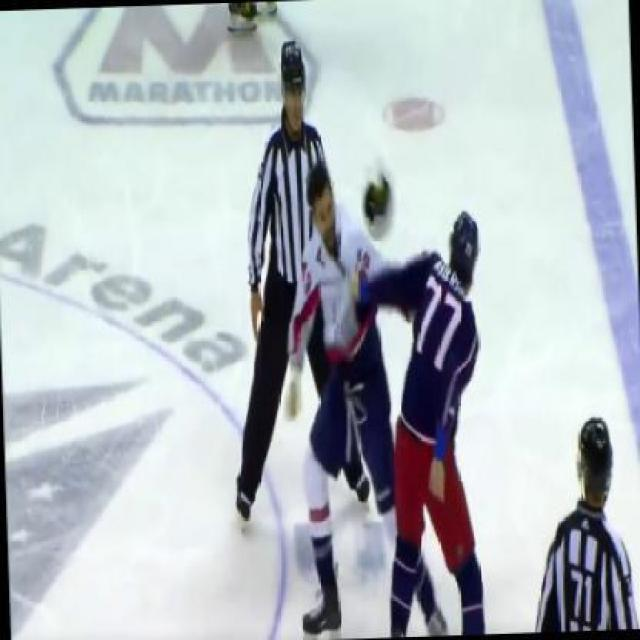fight: (283, 156, 500, 638)
